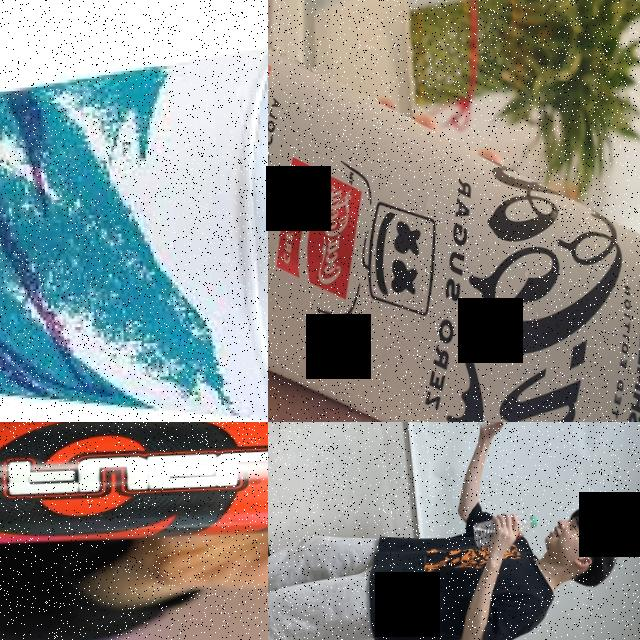bottle: (470, 511, 538, 549)
can: (268, 0, 640, 422), (0, 422, 268, 560)
cup: (0, 23, 268, 422)
